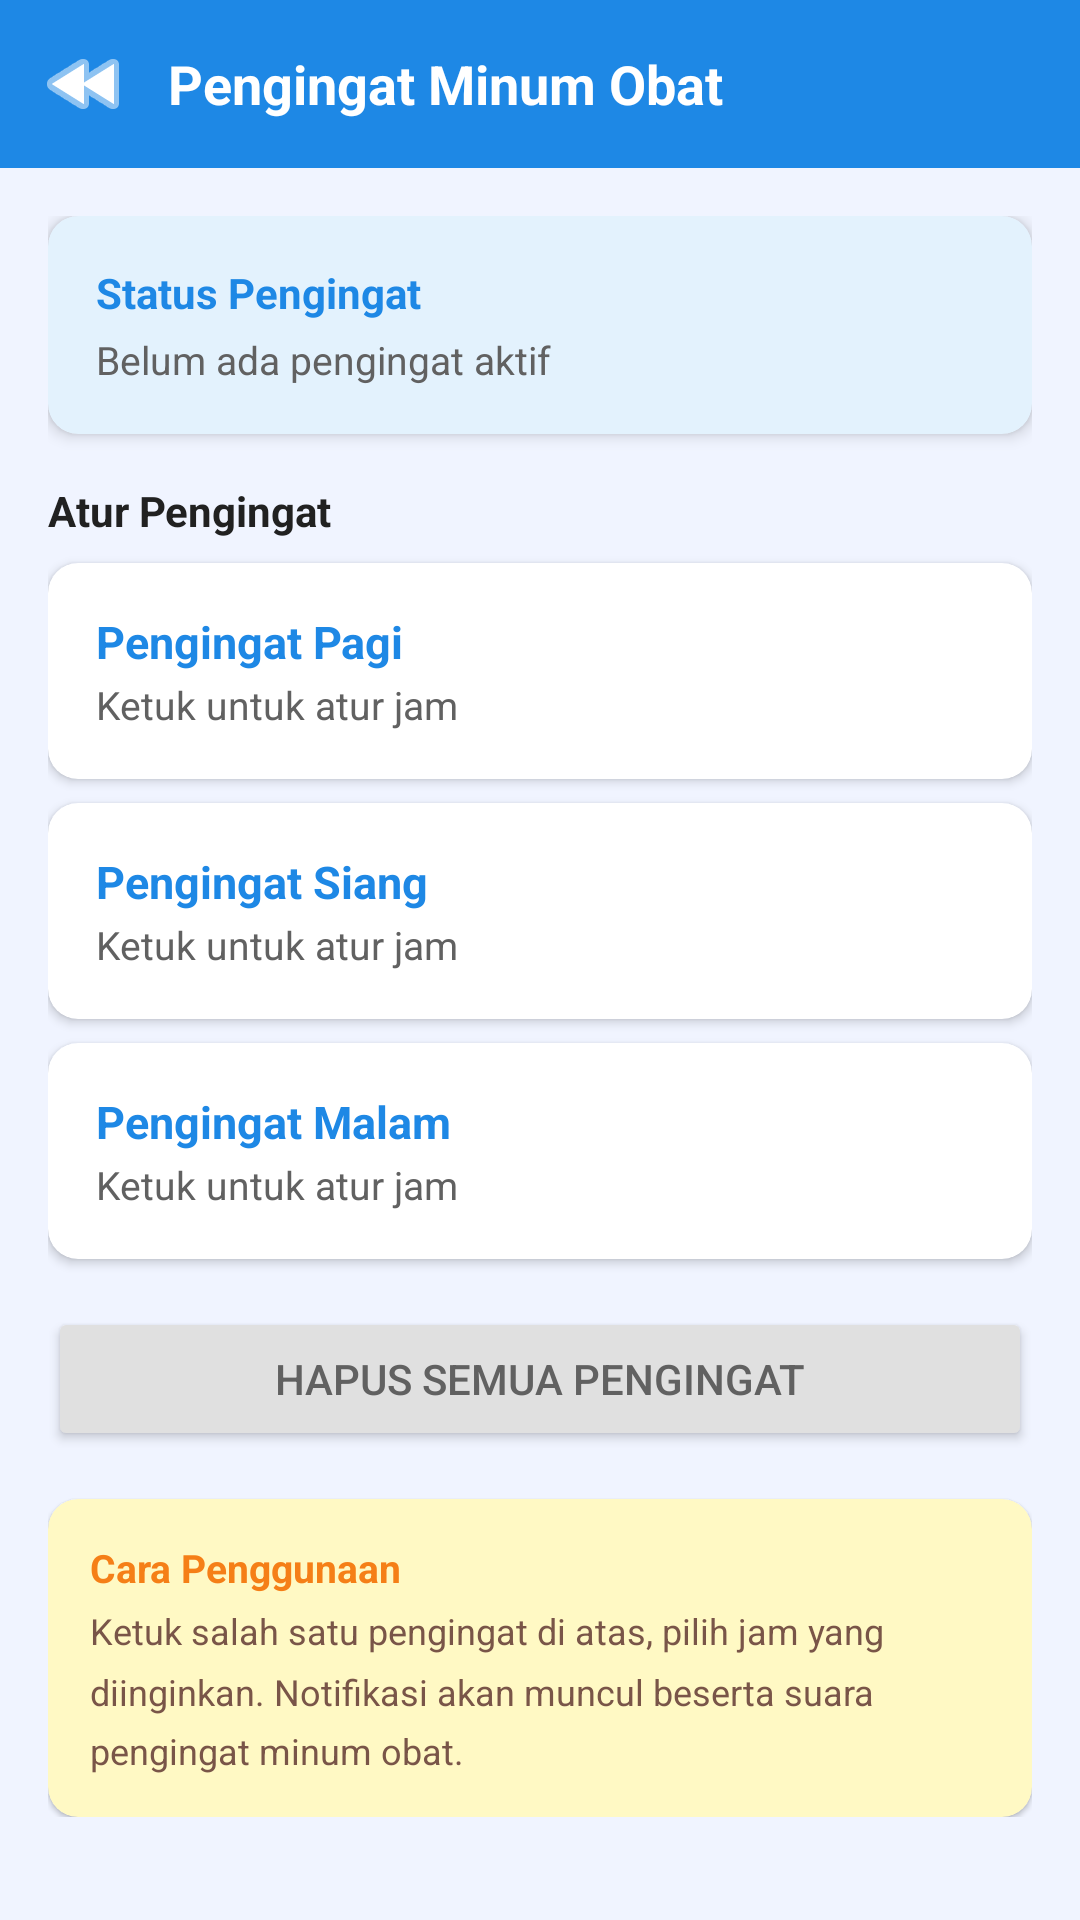

Icon bounding boxes for this 1080 x 1920 phone screenshot, format [x1=x1, y1=y1, x2=x2, y2=y2]:
Kembali: [x1=47, y1=59, x2=119, y2=109]
